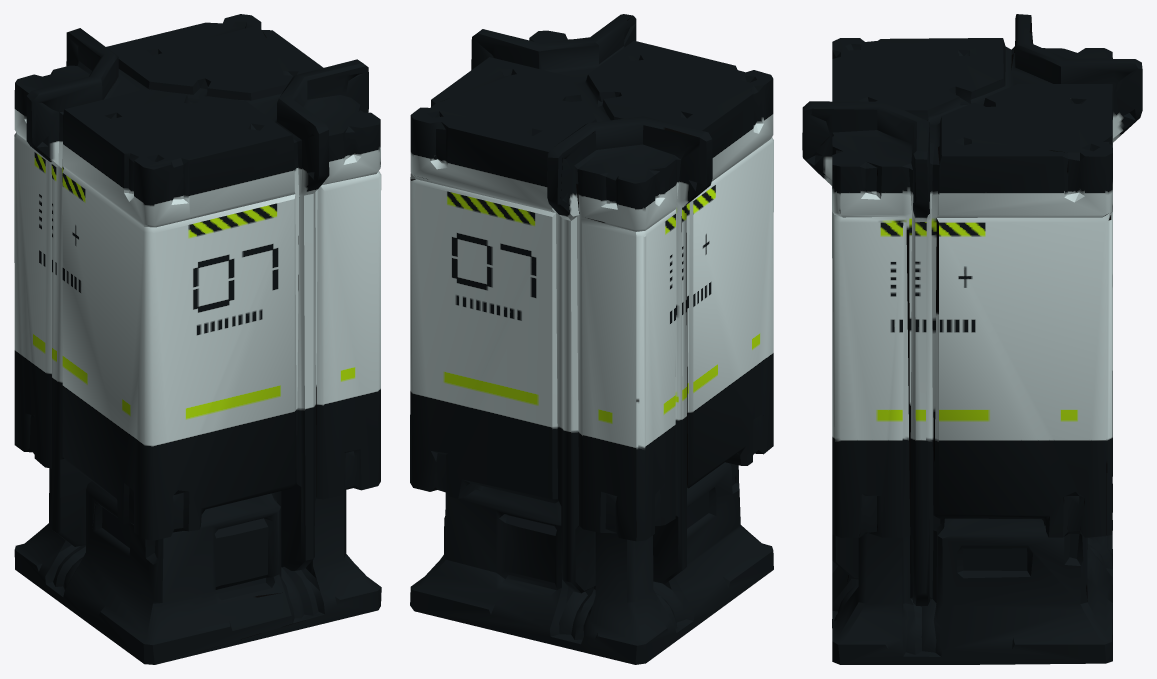
File: castle-far.glb
3 renders of one model, left to right at view 1: azimuth 30°, elevation 25°; view 2: azimuth 150°, elevation 25°; view 3: azimuth 270°, elevation 25°, orthographic. The views are drawn at different scales.
Visible parts, largest first — view 1: castle; view 2: castle; view 3: castle.
Boxes of the visible parts, x1,y1,x2,y2 form: castle: (14,14,381,664); castle: (410,14,773,664); castle: (802,14,1142,664).
Size of the model in its own units: 60.62 by 103 by 60.61.
1 material, 1 textured.
